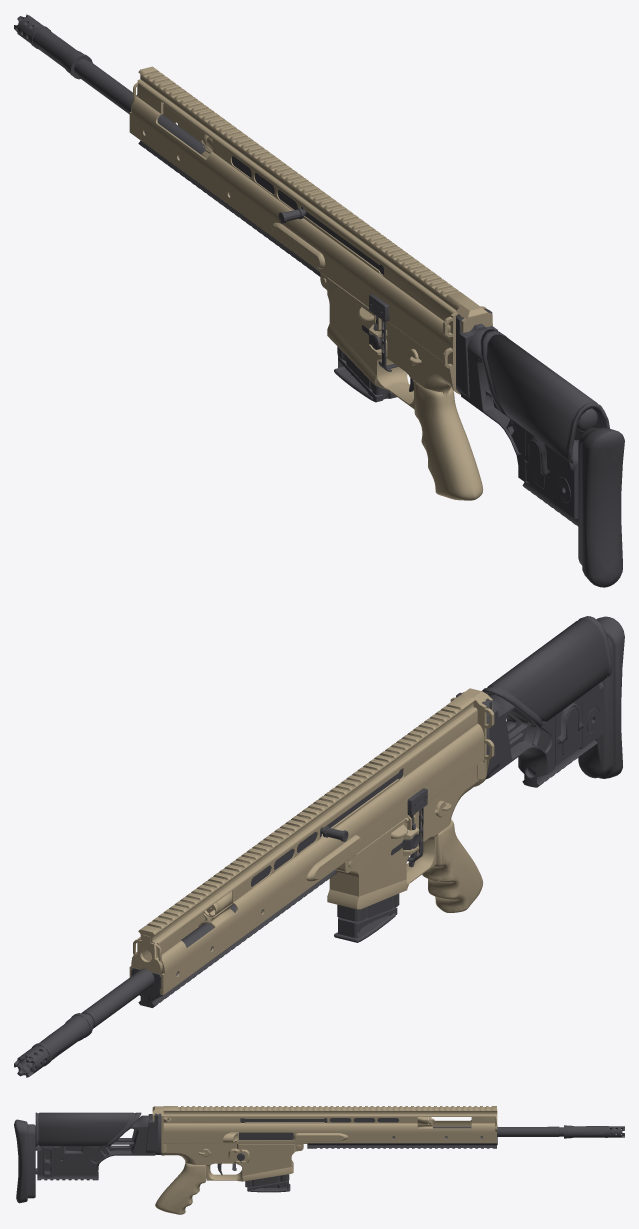
File: rifle-scar.glb
3 renders of one model, top to bottom at view 1: azimuth 30°, elevation 25°; view 2: azimuth 150°, elevation 25°; view 3: azimuth 270°, elevation 25°, orthographic. The views are drawn at different scales.
Visible parts, largest first — view 1: Upper, Stock (×2), Lower, Stock_low, Barrel_low, Muzzle_low, Back, muzzle, Magazine_Cylinder_low, Under; view 2: Upper, Stock (×2), Lower, Stock_low, Muzzle_low, Barrel_low, Magazine_Cylinder_low, Under, muzzle, Back, front, Bolt; view 3: Upper, Stock (×3), Lower, Stock_low, Under, muzzle, Barrel_low, Muzzle_low, Magazine_Cylinder_low, Back.
Boxes of the visible parts, x1,y1,x2,y2 form: Upper: [129, 66, 473, 363]; Stock (×2): [480, 329, 624, 587]; Lower: [320, 272, 483, 500]; Stock_low: [456, 309, 579, 526]; Barrel_low: [74, 59, 205, 154]; Muzzle_low: [14, 14, 92, 79]; Back: [443, 301, 492, 394]; muzzle: [232, 156, 383, 274]; Magazine_Cylinder_low: [334, 346, 396, 402]; Under: [138, 130, 320, 276]; Upper: [129, 694, 484, 995]; Stock (×2): [482, 616, 624, 778]; Lower: [327, 766, 483, 912]; Stock_low: [456, 682, 603, 787]; Muzzle_low: [14, 1013, 92, 1077]; Barrel_low: [81, 904, 236, 1028]; Magazine_Cylinder_low: [334, 893, 399, 942]; Under: [131, 870, 337, 1007]; muzzle: [251, 768, 402, 886]; Back: [450, 688, 494, 786]; front: [131, 935, 163, 974]; Bolt: [407, 788, 427, 861]; Upper: [163, 1106, 496, 1143]; Stock (×3): [14, 1112, 141, 1203]; Lower: [155, 1144, 303, 1214]; Stock_low: [37, 1113, 161, 1180]; Under: [307, 1125, 497, 1148]; muzzle: [239, 1118, 398, 1139]; Barrel_low: [392, 1126, 563, 1137]; Muzzle_low: [564, 1125, 624, 1138]; Magazine_Cylinder_low: [245, 1174, 290, 1192]; Back: [152, 1106, 170, 1155].
Size of the model in its own units: 0.122 by 0.3798 by 2.
